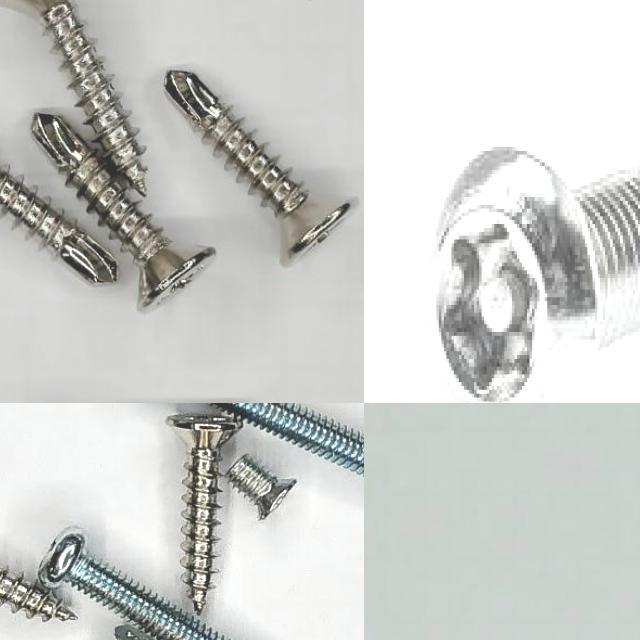Screw: (421, 147, 640, 403), (165, 71, 356, 266), (32, 113, 216, 309), (0, 0, 147, 196), (38, 527, 231, 640), (167, 414, 243, 615), (0, 166, 118, 283), (210, 403, 364, 475), (227, 455, 298, 521), (0, 568, 77, 622)
